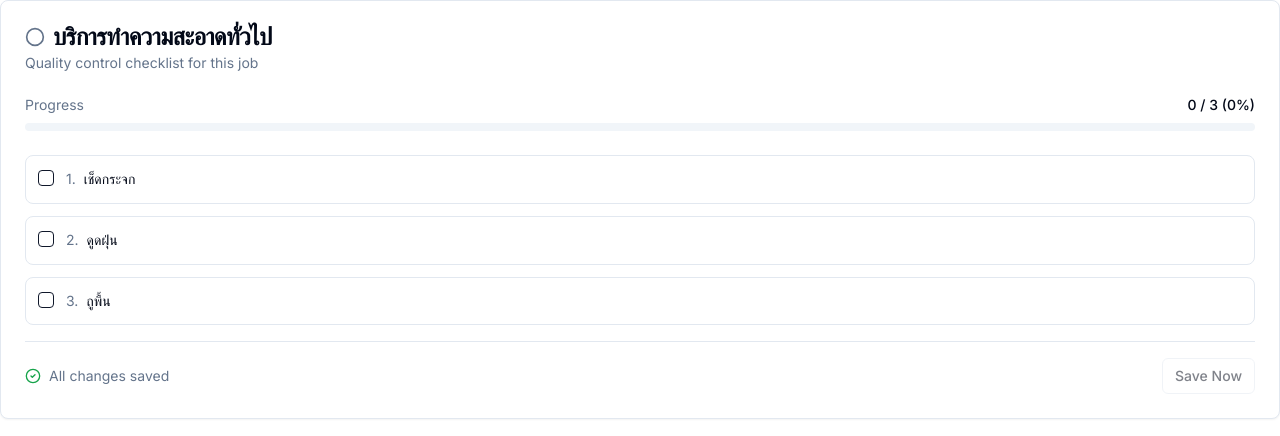
Scenario: ChecklistExecutor › Checkbox Interaction › should update progress when checkbox is toggled
Click the checkbox named "เช็ดกระจก" in the row of "เช็ดกระจก": [46, 178] box [38, 170, 54, 186]
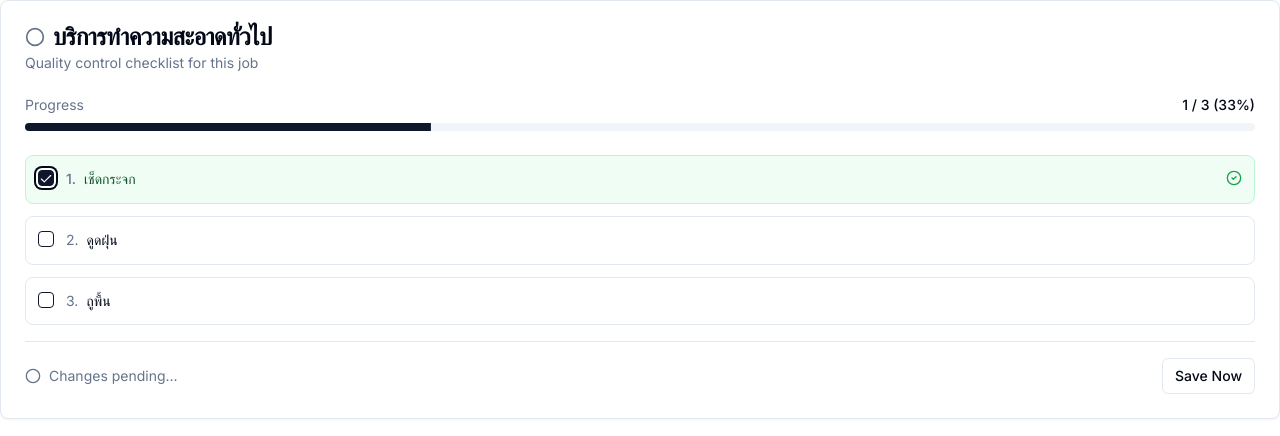
Click the checkbox named "ดูดฝุ่น" in the row of "ดูดฝุ่น": [46, 239] box [38, 231, 54, 247]
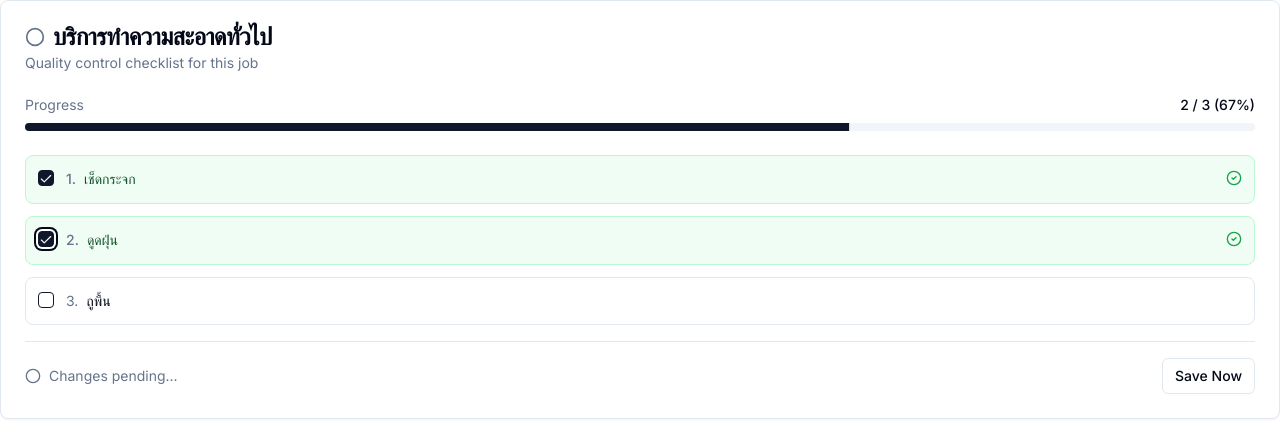
Result: the text "2 / 3 (67%)" is shown at [1180, 95, 1255, 115]
